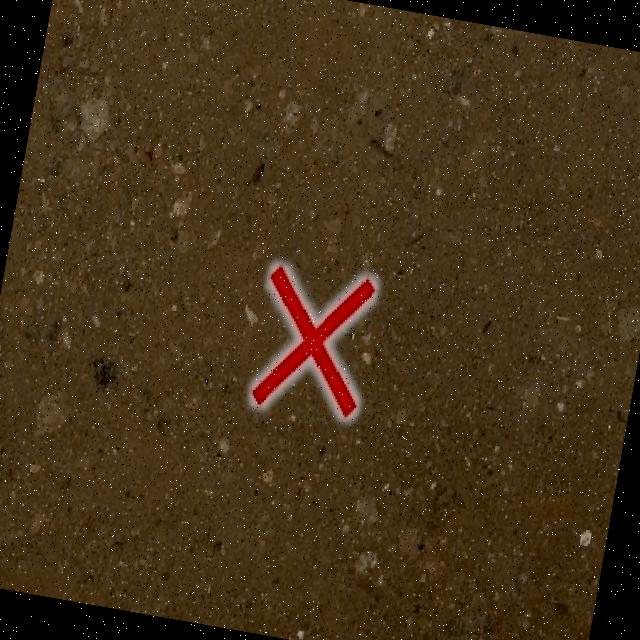x_marker: (248, 262, 377, 419)
